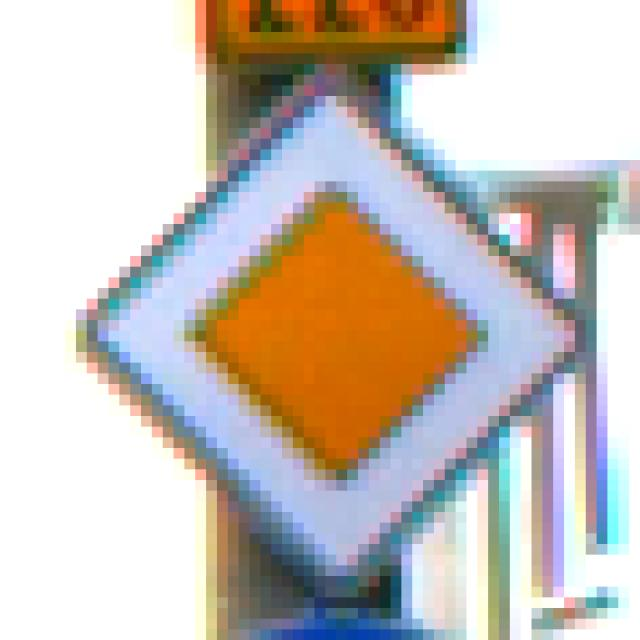Main Road: (66, 54, 587, 577)
